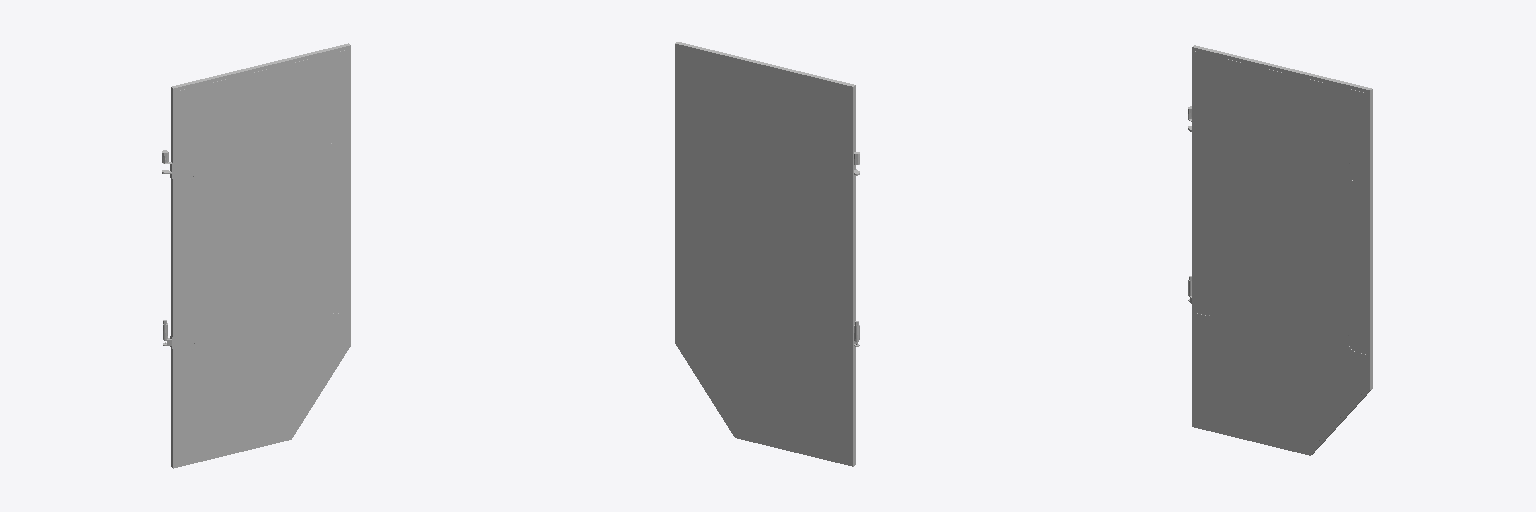
The model's file is LRO_SAS_Left_Panel.obj.
3 views of the same model, side by side, from view 1: azimuth 30°, elevation 25°; view 2: azimuth 150°, elevation 25°; view 3: azimuth 330°, elevation 25° (orthographic).
Parts seen in each view (by area): view 1: SAS_Left_Panel; view 2: SAS_Left_Panel; view 3: SAS_Left_Panel.
Part boxes in pixels (x1,y1,x2,y2): SAS_Left_Panel: (162, 43, 350, 468); SAS_Left_Panel: (675, 42, 859, 466); SAS_Left_Panel: (1188, 45, 1372, 455).
Size of the model in its own units: 1.49 by 2.91 by 0.0734.